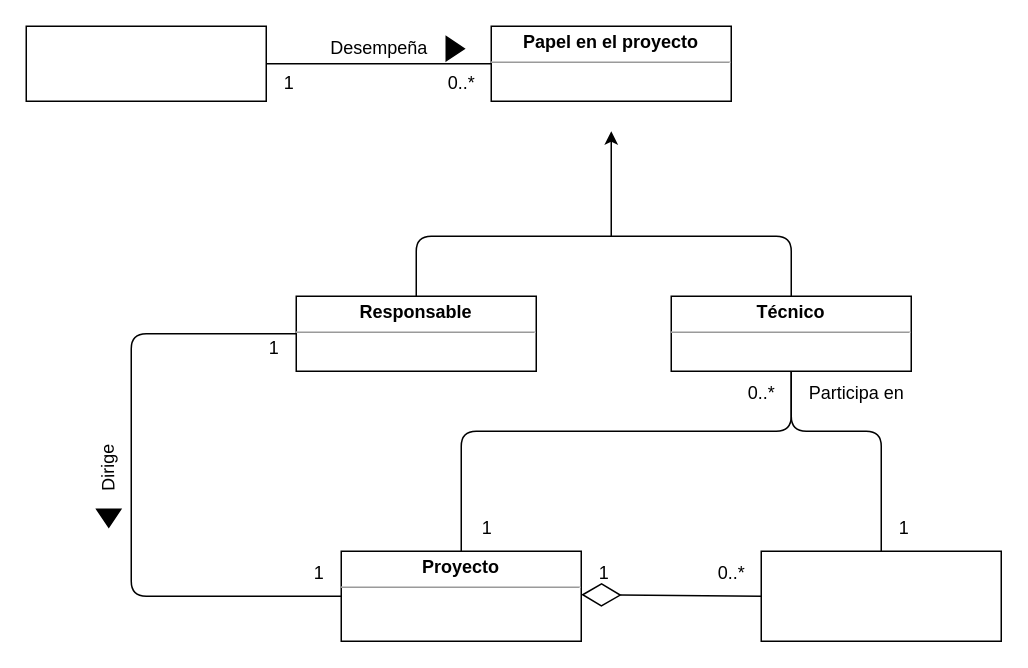
Image size: 1028x668. Some labels were removed from this diagram. Here are the shapes that lost their labels. From the top down, the box of each, then its label:
(25, 25, 266, 101): Persona
(760, 550, 1001, 641): Actuación
